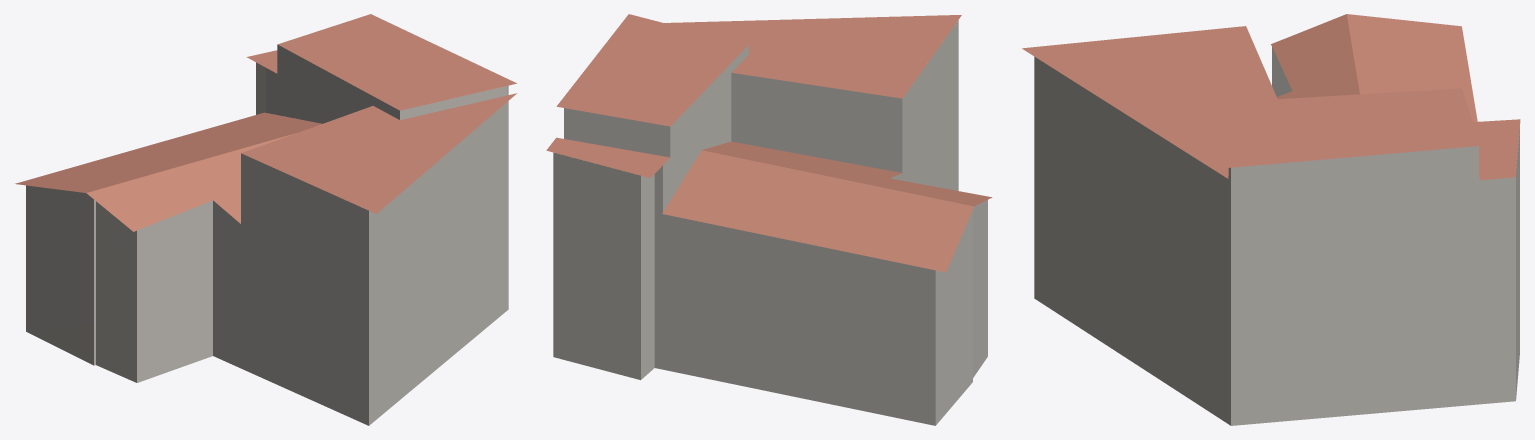
The picture shows the model from 3 angles, left to right: view 1: azimuth 30°, elevation 25°; view 2: azimuth 150°, elevation 25°; view 3: azimuth 270°, elevation 25°; orthographic projection. The views are drawn at different scales.
Parts seen in each view (by area): view 1: swisstopo:swissbuildings3d:ba4ac9d1-6a1a-4380-a164-efa108f4d; view 2: swisstopo:swissbuildings3d:ba4ac9d1-6a1a-4380-a164-efa108f4d; view 3: swisstopo:swissbuildings3d:ba4ac9d1-6a1a-4380-a164-efa108f4d.
Part boxes in pixels (x1=…): swisstopo:swissbuildings3d:ba4ac9d1-6a1a-4380-a164-efa108f4d: x1=15, y1=14, x2=516, y2=425; swisstopo:swissbuildings3d:ba4ac9d1-6a1a-4380-a164-efa108f4d: x1=546, y1=14, x2=992, y2=425; swisstopo:swissbuildings3d:ba4ac9d1-6a1a-4380-a164-efa108f4d: x1=1022, y1=14, x2=1520, y2=425.
Bounding box in the file's own units: 15.87 × 8.47 × 14.59.
